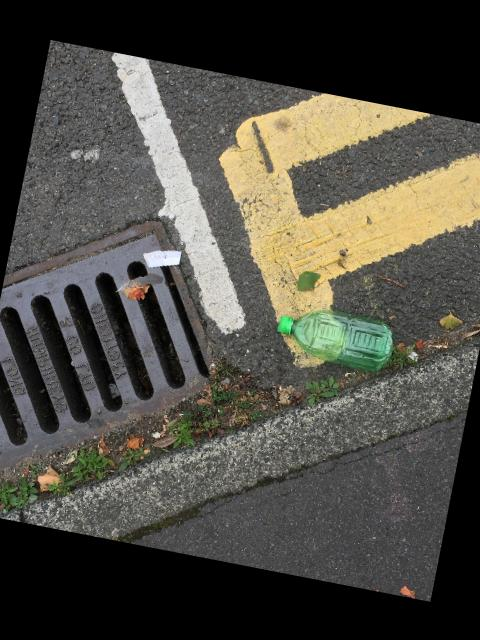plastic: (277, 308, 392, 370)
